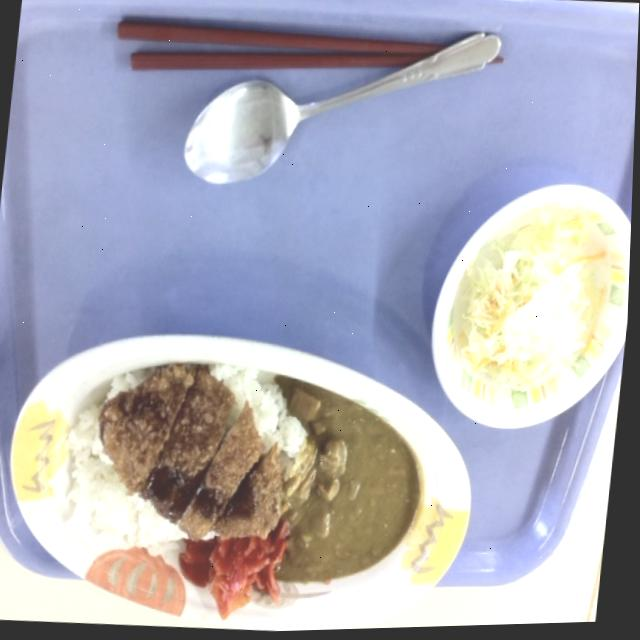猪肉菜式: (5, 319, 497, 639)
蔬菜料理: (430, 175, 634, 448)
